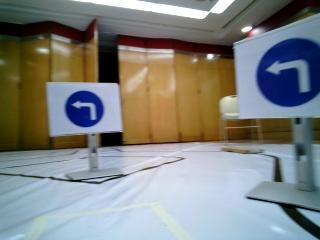left: (237, 40, 320, 110), (52, 83, 121, 131)
